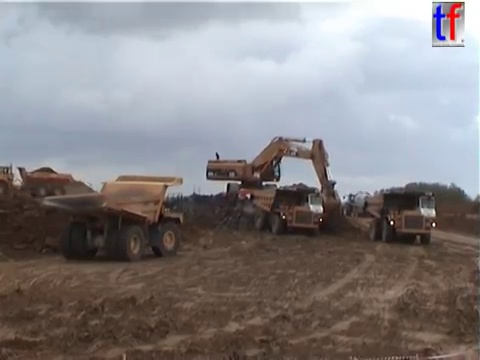excavator: (204, 134, 345, 231), (214, 184, 288, 212)
truck: (40, 173, 185, 262), (362, 188, 438, 245), (247, 185, 325, 235), (1, 162, 75, 199), (340, 190, 378, 219)
